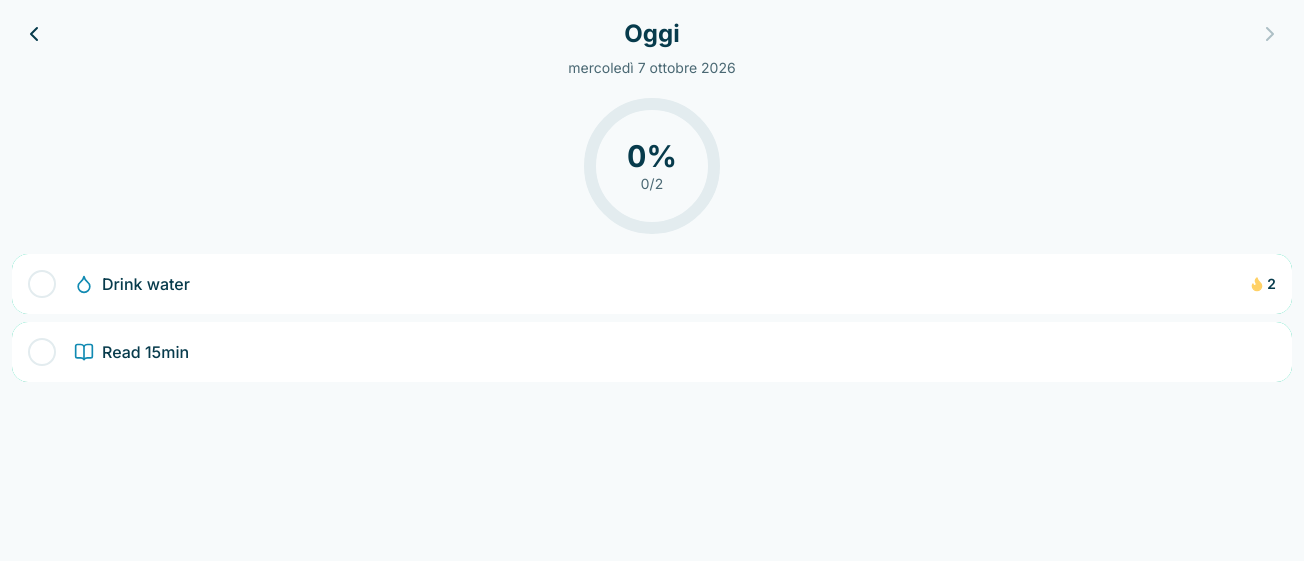
Test: HomePage › giorno precedente: lunedì compare Gym
Click the button named "Giorno precedente" at [34, 34], box left=12, top=12, right=56, bottom=56
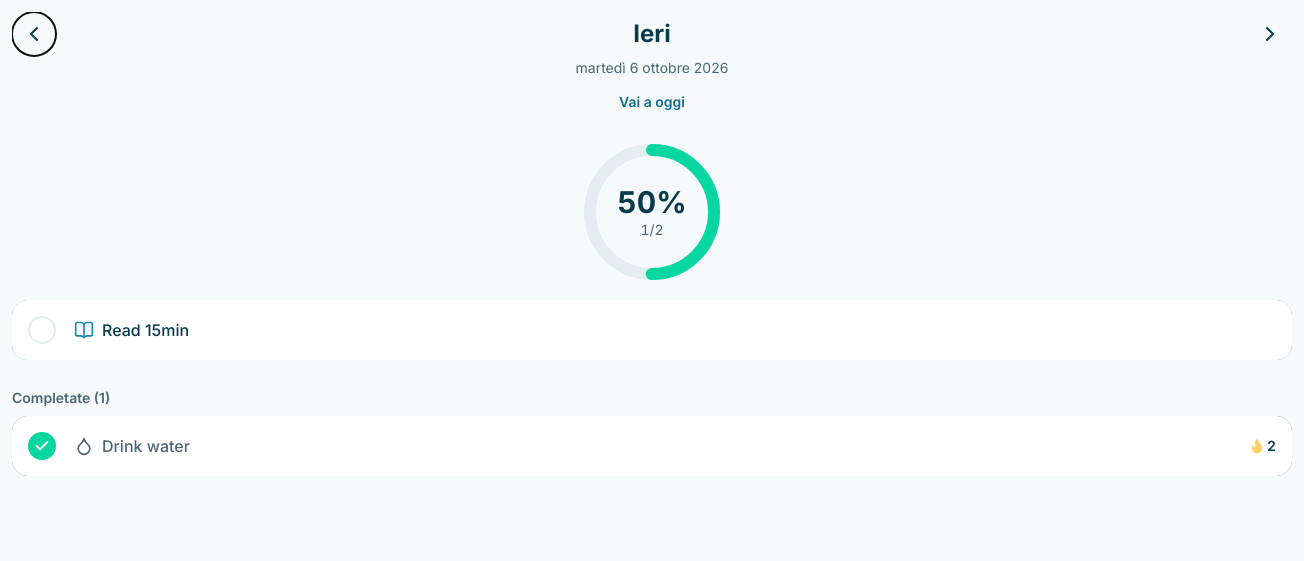
Click the button named "Giorno precedente" at [34, 34], box left=12, top=12, right=56, bottom=56
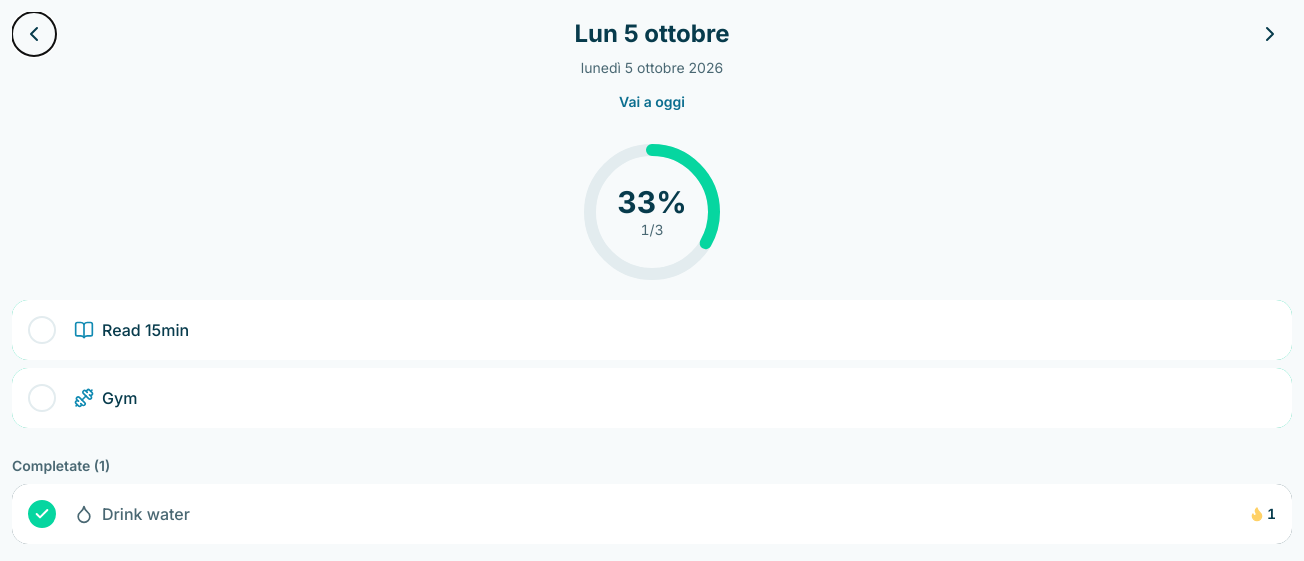
Result: the heading "Lun 5 ottobre" is shown at left=574, top=18, right=729, bottom=50
Result: the text "Gym" is shown at left=102, top=388, right=137, bottom=408
